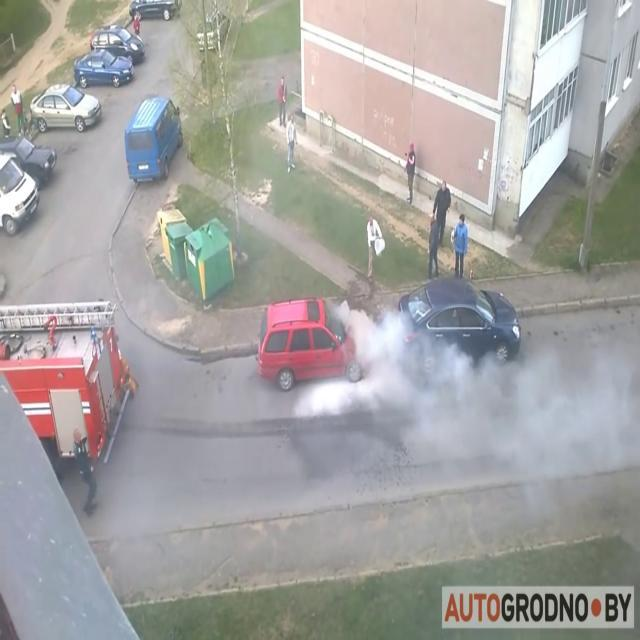Smoke: (322, 304, 640, 480)
